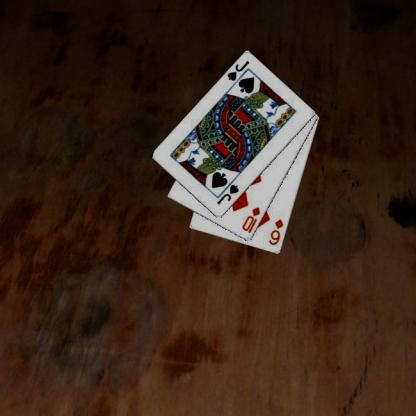10D: (239, 205, 261, 234)
6D: (266, 216, 285, 246)
JS: (225, 58, 251, 83), (214, 182, 240, 206)
